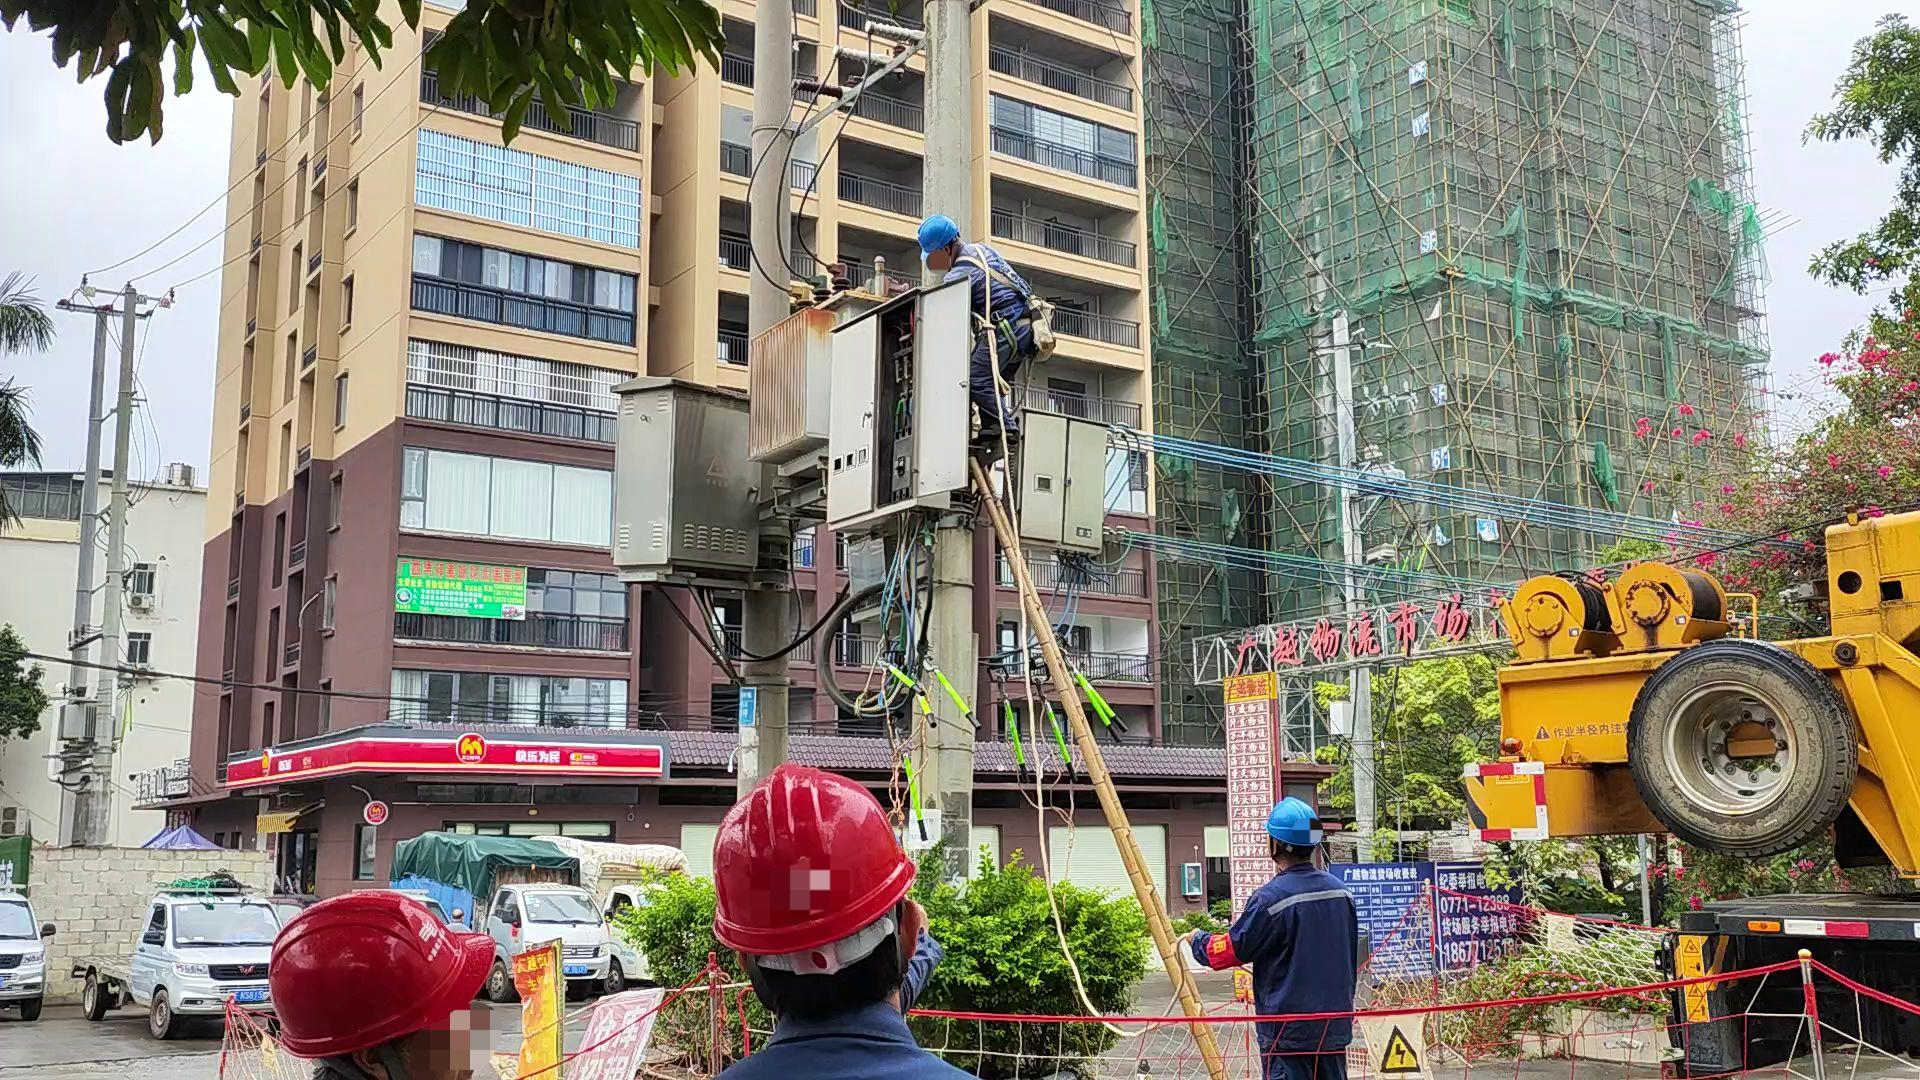halt: (712, 770, 930, 1014), (269, 887, 501, 1080), (1266, 800, 1324, 862), (920, 216, 967, 269)
